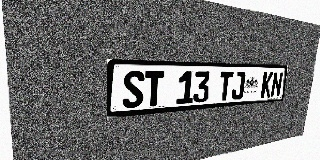1: (177, 71, 195, 105)
3: (193, 71, 210, 103)
J: (231, 72, 246, 100)
K: (260, 72, 273, 98)
N: (270, 72, 283, 97)
S: (122, 71, 144, 109)
T: (144, 71, 164, 107), (218, 72, 233, 101)
